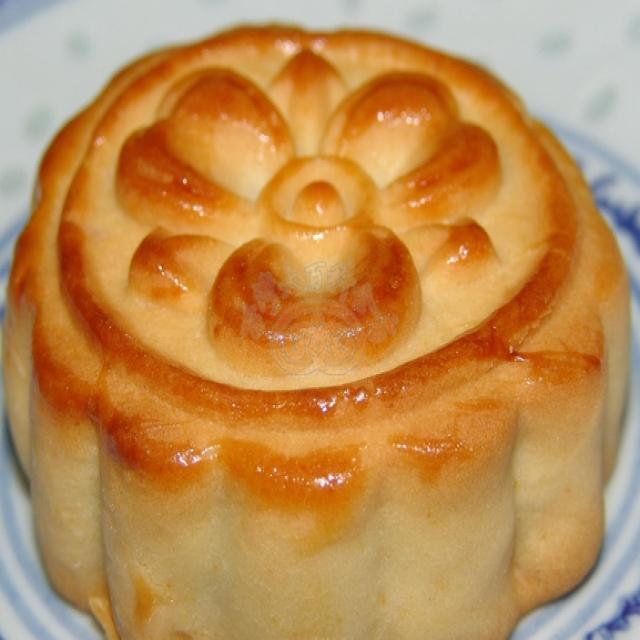蛋糕甜品: (18, 21, 616, 634)
